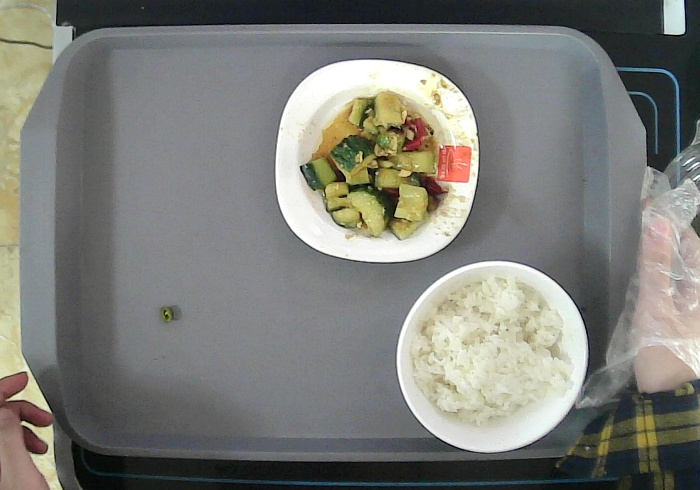SHKJ-Bai_Se_Si_Fang_Cai_Die: (273, 57, 482, 264)
SHKJ-Fan_Wan: (394, 259, 593, 454)
